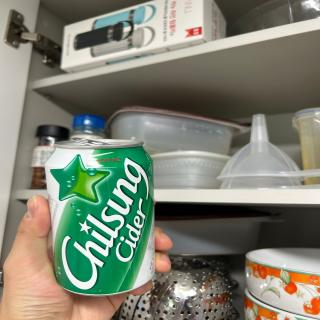cocacola: (41, 137, 159, 297)
